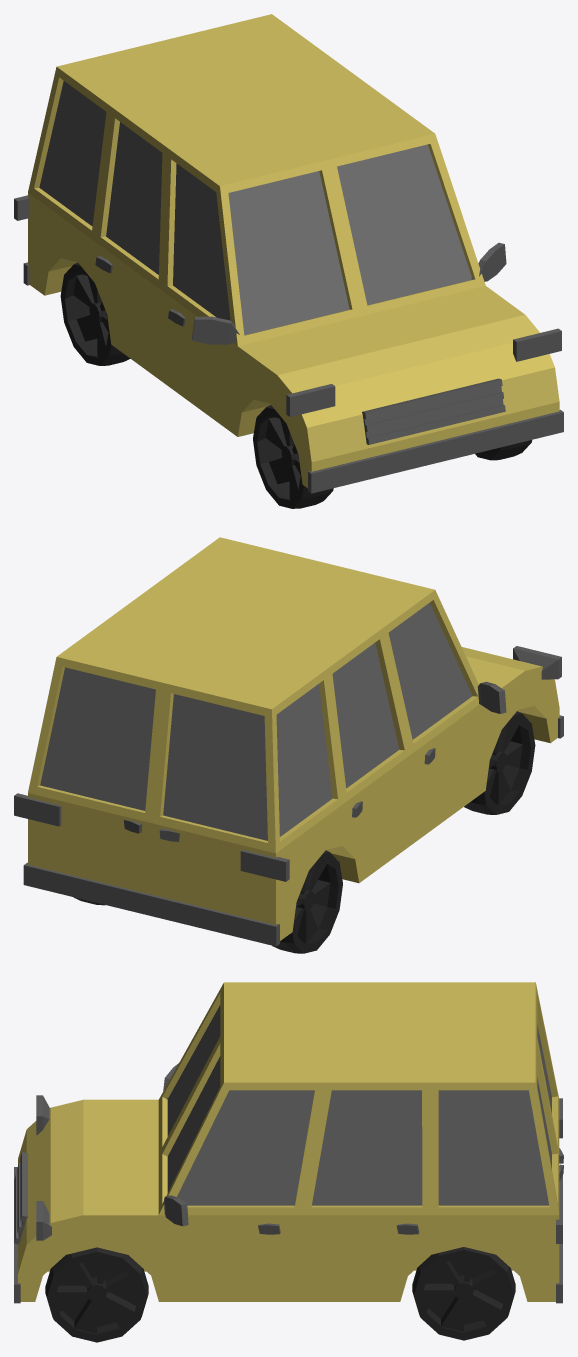
Rendered from Car10.fbx.
3 views of the same model, one above another, from view 1: azimuth 30°, elevation 25°; view 2: azimuth 150°, elevation 25°; view 3: azimuth 270°, elevation 25° (orthographic). The views are drawn at different scales.
Visible parts, largest first — view 1: Car10; view 2: Car10; view 3: Car10.
Boxes of the visible parts, <box> form: Car10: <box>14,14,563,508</box>; Car10: <box>14,537,563,953</box>; Car10: <box>14,982,563,1342</box>.
Size of the model in its own units: 8.16 by 6.71 by 12.95.
